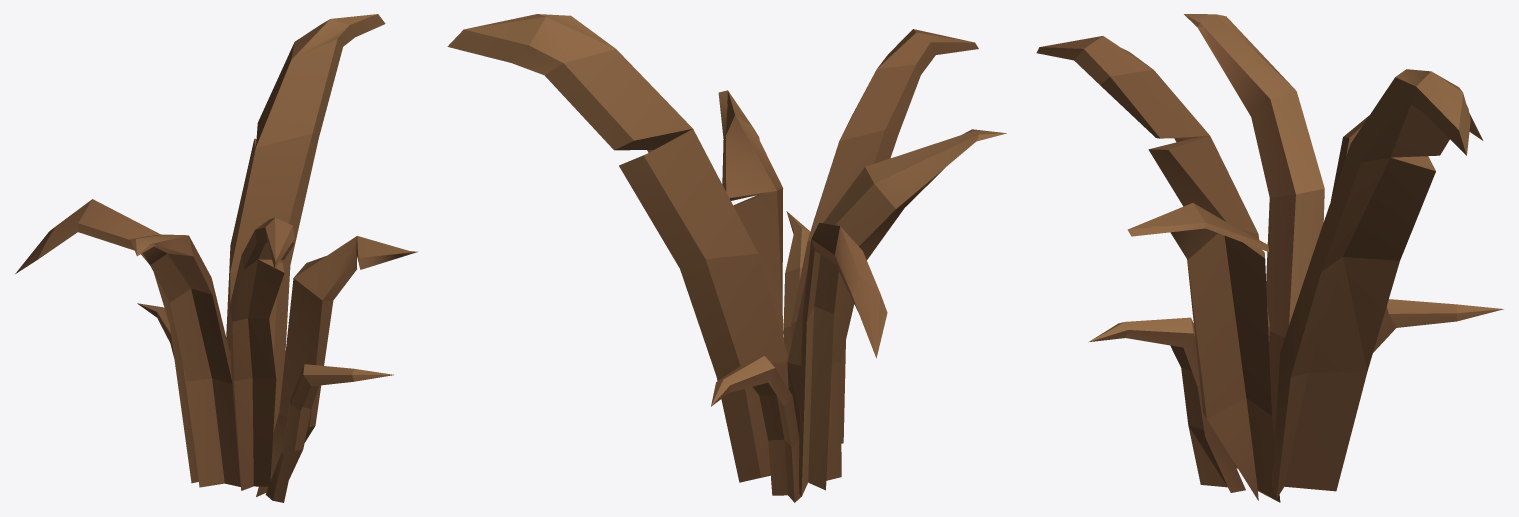
File: brown grass.glb
The picture shows the model from 3 angles, left to right: view 1: azimuth 30°, elevation 25°; view 2: azimuth 150°, elevation 25°; view 3: azimuth 270°, elevation 25°; orthographic projection. The views are drawn at different scales.
Parts seen in each view (by area): view 1: Grass.003; view 2: Grass.003; view 3: Grass.003.
Boxes of the visible parts, x1,y1,x2,y2 form: Grass.003: [15, 14, 417, 502]; Grass.003: [447, 14, 1006, 502]; Grass.003: [1036, 14, 1503, 502].
Bounding box in the file's own units: 2.82 × 2.92 × 2.43.
Materials: 1 (1 with a texture image).
